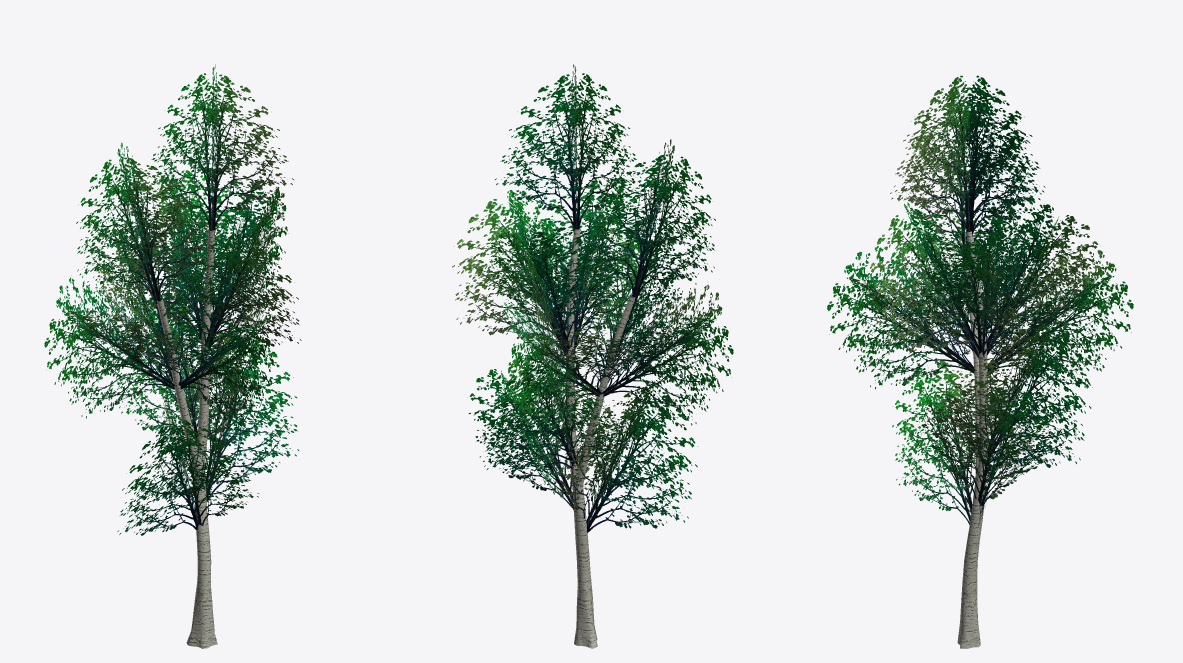
File: whitebirch01.glb
3 views of the same model, side by side, from view 1: azimuth 30°, elevation 25°; view 2: azimuth 150°, elevation 25°; view 3: azimuth 270°, elevation 25° (orthographic).
Parts seen in each view (by area): view 1: node-WhiteBirch256; view 2: node-WhiteBirch256; view 3: node-WhiteBirch256.
Boxes of the visible parts, x1,y1,x2,y2 form: node-WhiteBirch256: [44, 64, 301, 648]; node-WhiteBirch256: [452, 64, 733, 648]; node-WhiteBirch256: [827, 75, 1133, 648].
Size of the model in its own units: 16.54 by 28.82 by 15.51.
Materials: 2 (2 with a texture image).
